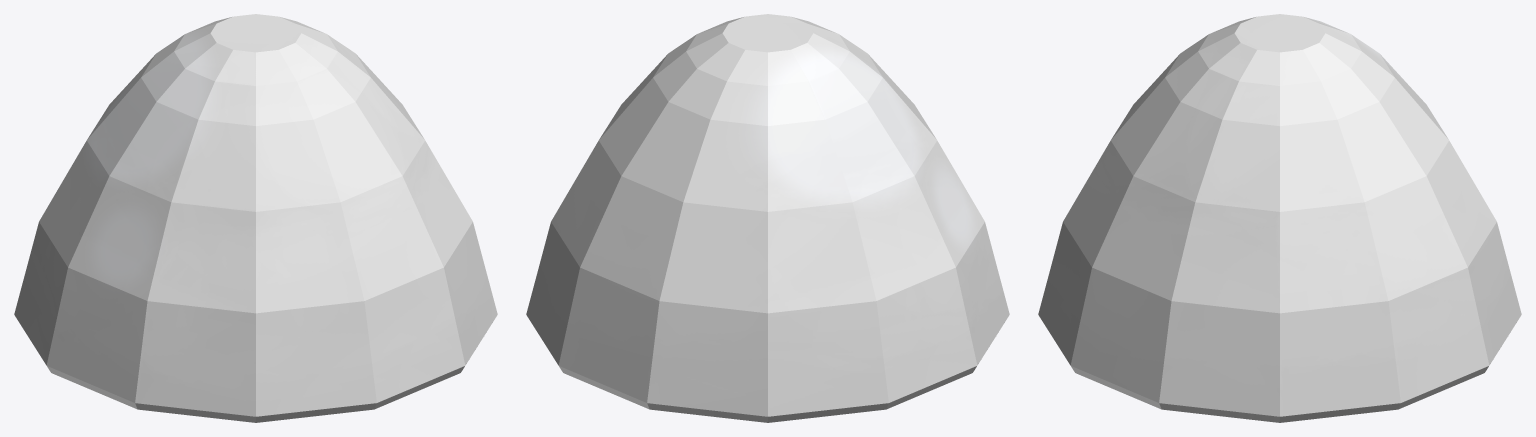
The model's file is EggShell2.fbx.
3 renders of one model, left to right at view 1: azimuth 30°, elevation 25°; view 2: azimuth 150°, elevation 25°; view 3: azimuth 270°, elevation 25°, orthographic.
Parts seen in each view (by area): view 1: EggShell2; view 2: EggShell2; view 3: EggShell2.
Boxes of the visible parts, x1=… form: EggShell2: x1=14, y1=14, x2=497, y2=422; EggShell2: x1=526, y1=14, x2=1009, y2=422; EggShell2: x1=1038, y1=14, x2=1521, y2=422.
Bounding box in the file's own units: 35.19 × 23.27 × 35.19.
